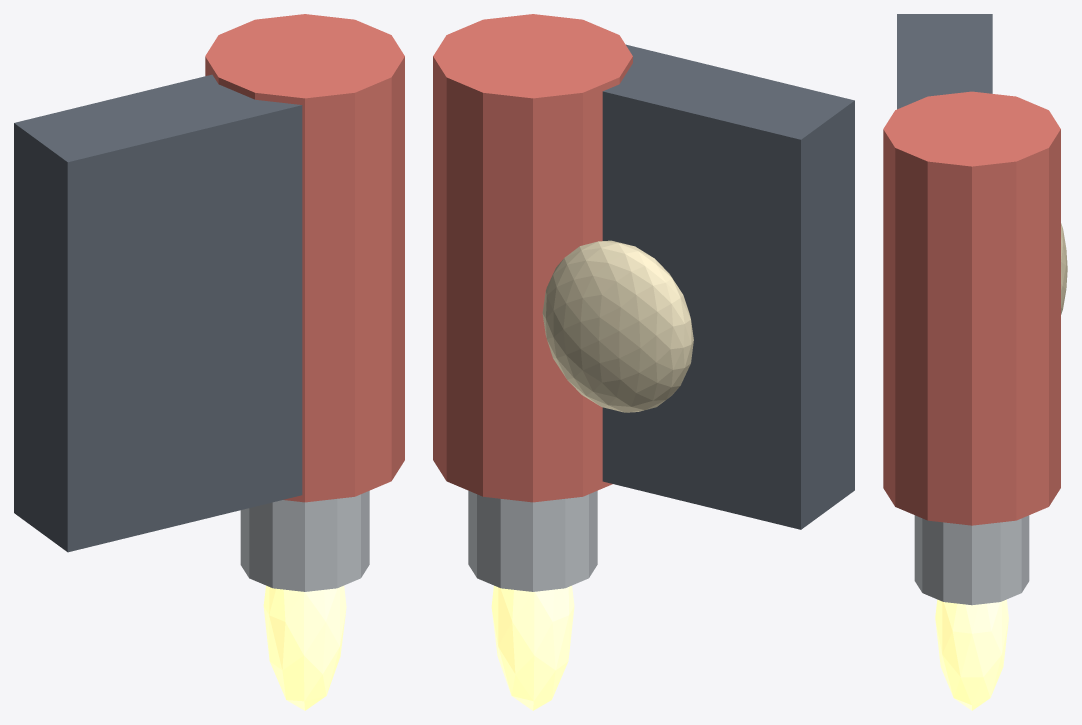
Rendered from jet_2.glb.
The picture shows the model from 3 angles, left to right: view 1: azimuth 30°, elevation 25°; view 2: azimuth 150°, elevation 25°; view 3: azimuth 270°, elevation 25°; orthographic projection. The views are drawn at different scales.
Parts seen in each view (by area): view 1: placa, deposito, tobera, llama; view 2: placa, deposito, nucleo, tobera, llama; view 3: deposito, tobera, placa, llama, nucleo.
Part boxes in pixels (bbox=[...]): placa: bbox=[14, 74, 302, 552]; deposito: bbox=[205, 14, 404, 502]; tobera: bbox=[240, 491, 369, 591]; llama: bbox=[263, 585, 346, 710]; placa: bbox=[602, 44, 854, 529]; deposito: bbox=[433, 14, 632, 502]; nucleo: bbox=[542, 240, 693, 412]; tobera: bbox=[468, 490, 597, 591]; llama: bbox=[491, 585, 574, 710]; deposito: bbox=[883, 91, 1060, 525]; tobera: bbox=[914, 515, 1029, 605]; placa: bbox=[897, 14, 992, 109]; llama: bbox=[935, 599, 1008, 710]; nucleo: bbox=[1061, 223, 1067, 314].
Bounding box in the file's own units: 0.5266 × 0.9 × 0.2585.
